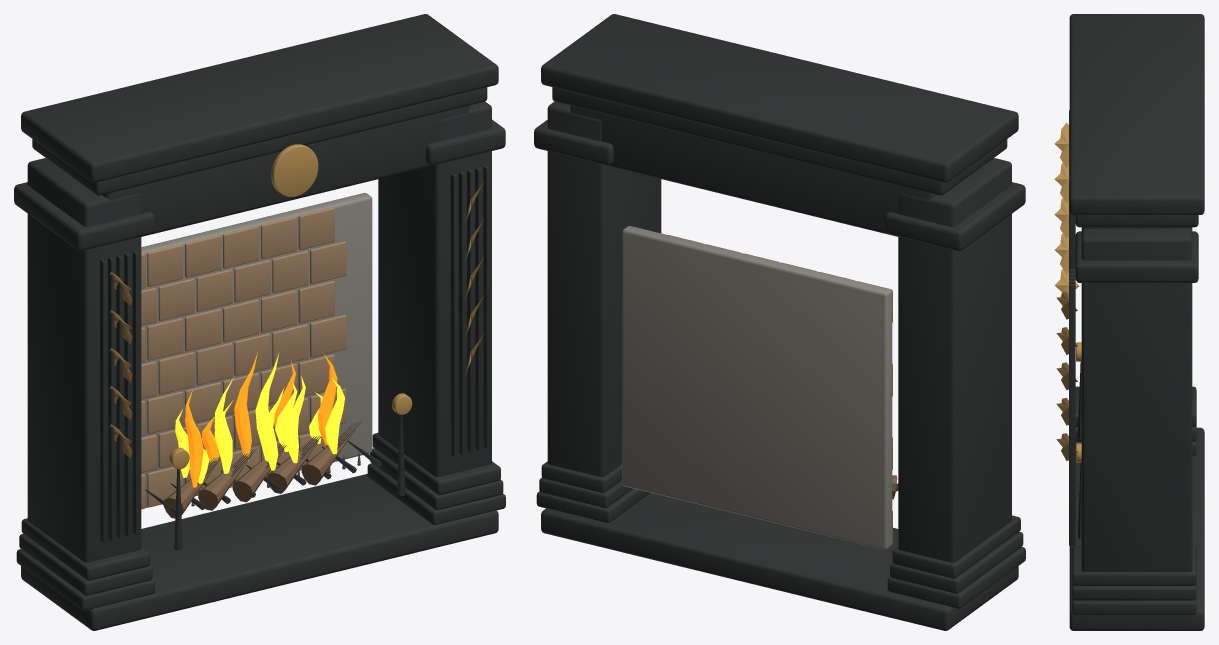
The model's file is cast-iron-fireplace.glb.
3 renders of one model, left to right at view 1: azimuth 30°, elevation 25°; view 2: azimuth 150°, elevation 25°; view 3: azimuth 270°, elevation 25°, orthographic. The views are drawn at different scales.
Parts seen in each view (by area): view 1: catalog_surface_RealismUV, catalog_surface_UVMap; view 2: catalog_surface_RealismUV; view 3: catalog_surface_RealismUV.
Boxes of the visible parts, left/top/right/bottom form: catalog_surface_RealismUV: left=14, top=14, right=505, bottom=630; catalog_surface_UVMap: left=175, top=352, right=360, bottom=506; catalog_surface_RealismUV: left=534, top=14, right=1025, bottom=630; catalog_surface_RealismUV: left=1054, top=14, right=1204, bottom=630.
Bounding box in the file's own units: 1.1 × 1.15 × 0.36.
